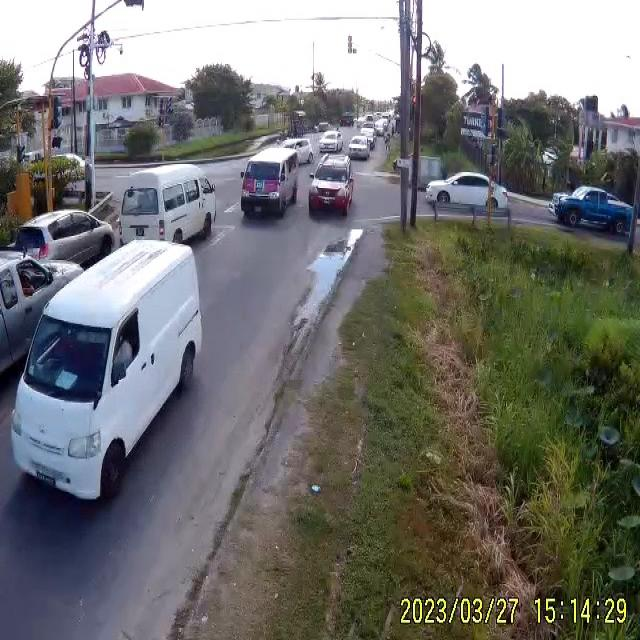car: (8, 240, 204, 500), (118, 167, 216, 245), (8, 208, 122, 270), (241, 146, 300, 218), (552, 187, 637, 236), (426, 172, 508, 211), (307, 159, 355, 217), (318, 131, 342, 155), (346, 134, 369, 158)
